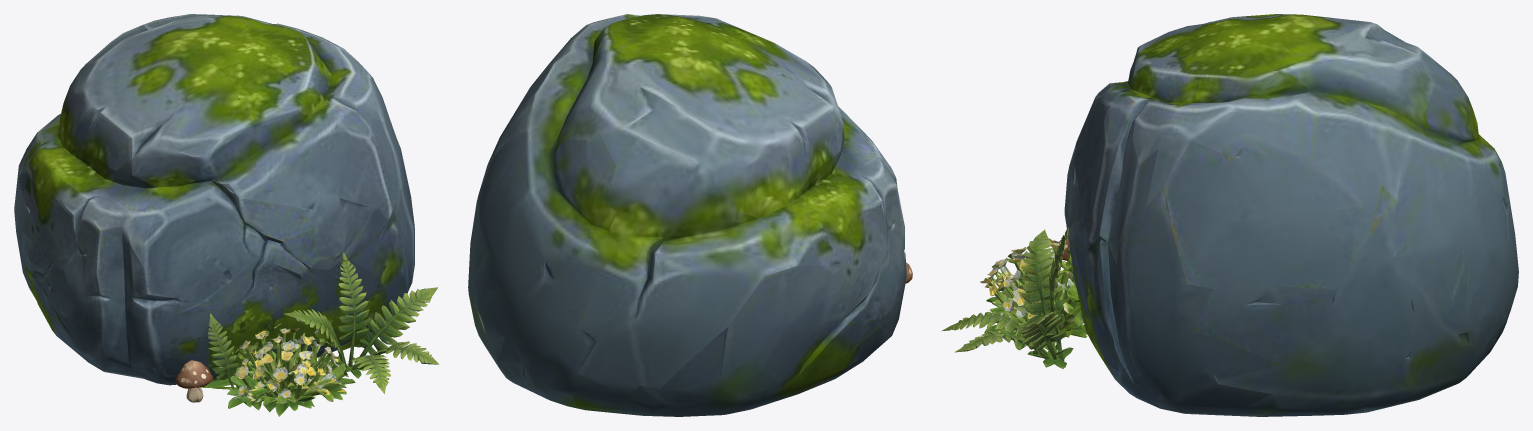
File: rocher.glb
3 renders of one model, left to right at view 1: azimuth 30°, elevation 25°; view 2: azimuth 150°, elevation 25°; view 3: azimuth 270°, elevation 25°, orthographic. The views are drawn at different scales.
Bounding box in the file's own units: 1.45 × 1.14 × 1.9.
Materials: 1 (1 with a texture image).
